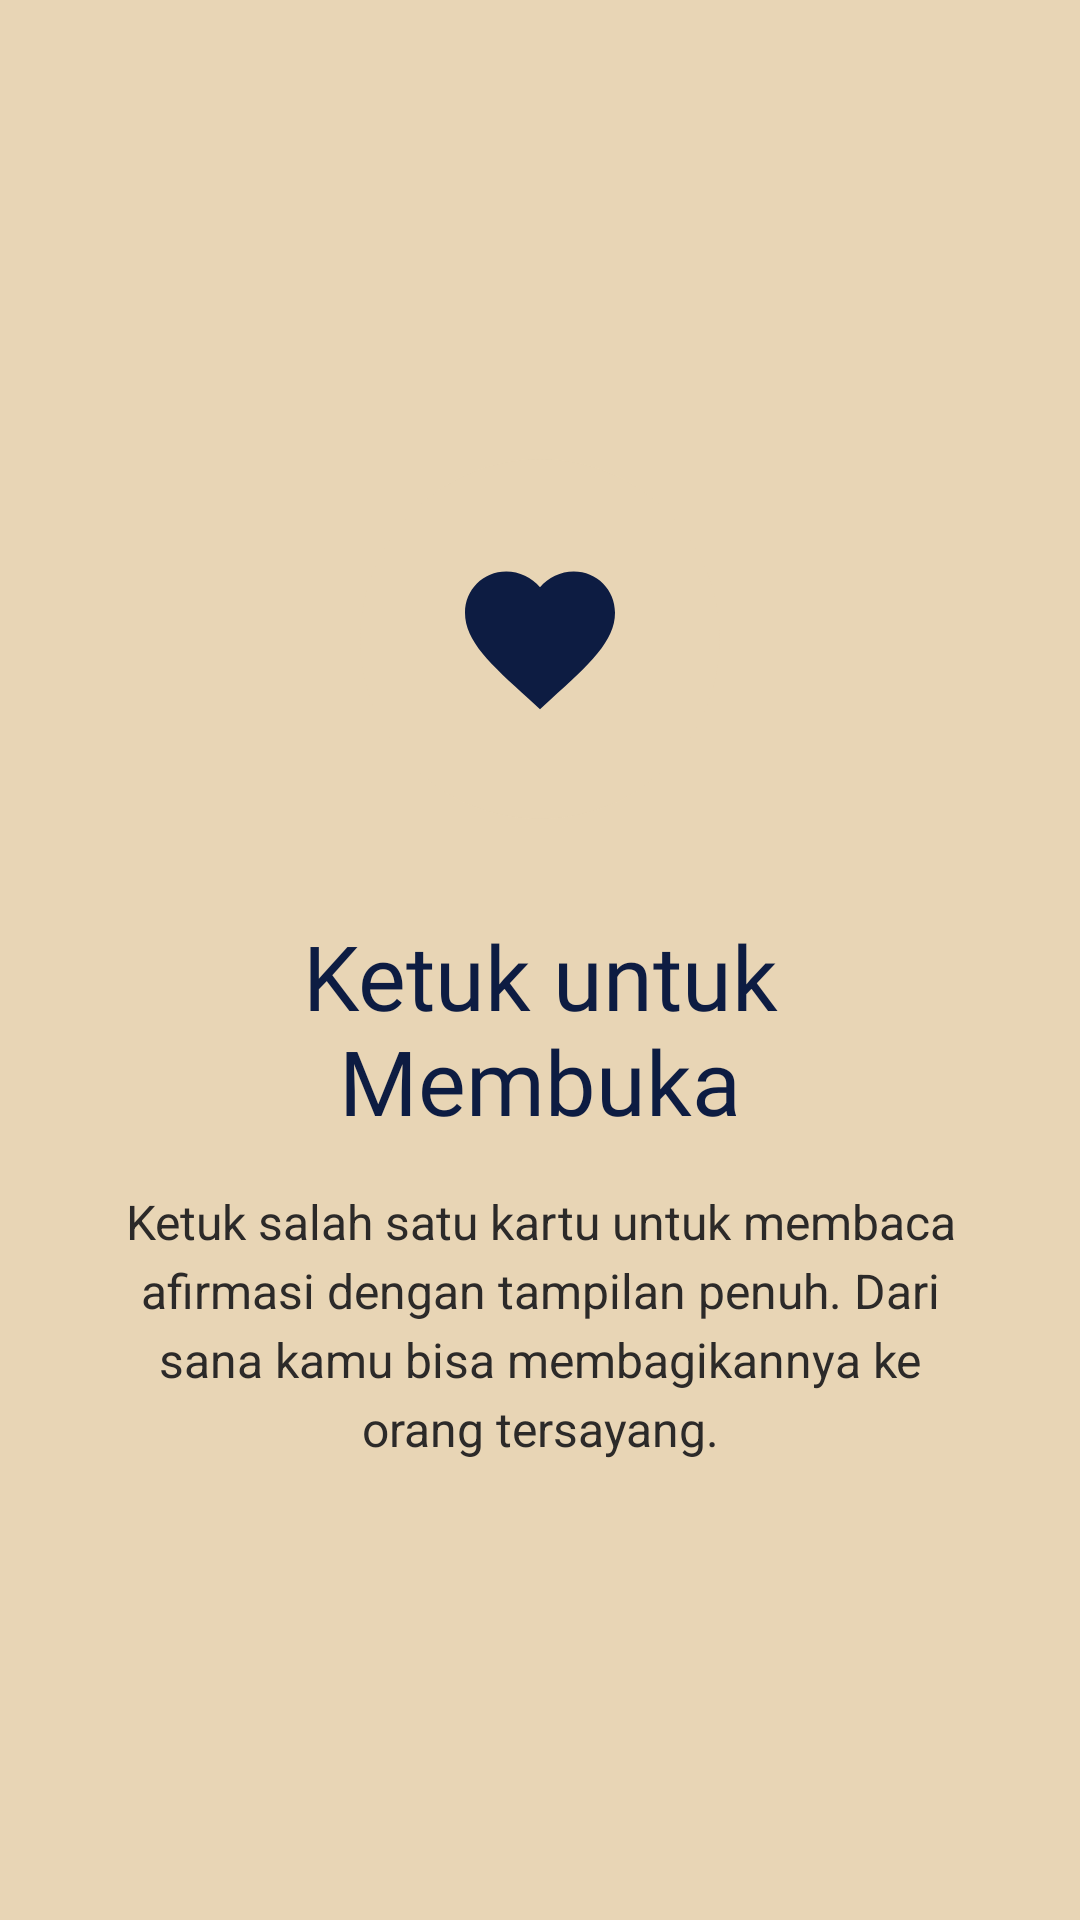

Where to tap for icons on this 1080 x 1920 app screen, as point (x, y):
Ikon afirmasi: point (540, 640)
